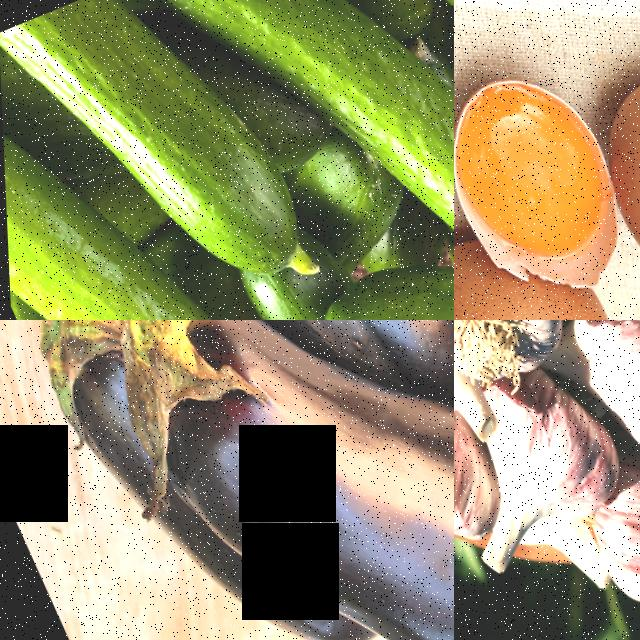cucumber: (17, 0, 314, 320), (274, 0, 454, 307), (84, 242, 374, 320), (334, 0, 454, 84)
egg_: (454, 59, 624, 281), (573, 45, 640, 320)
eggplant: (89, 320, 454, 640)
garlic: (471, 351, 632, 536), (569, 320, 640, 477), (454, 320, 578, 399), (576, 465, 640, 617), (454, 404, 500, 559)
